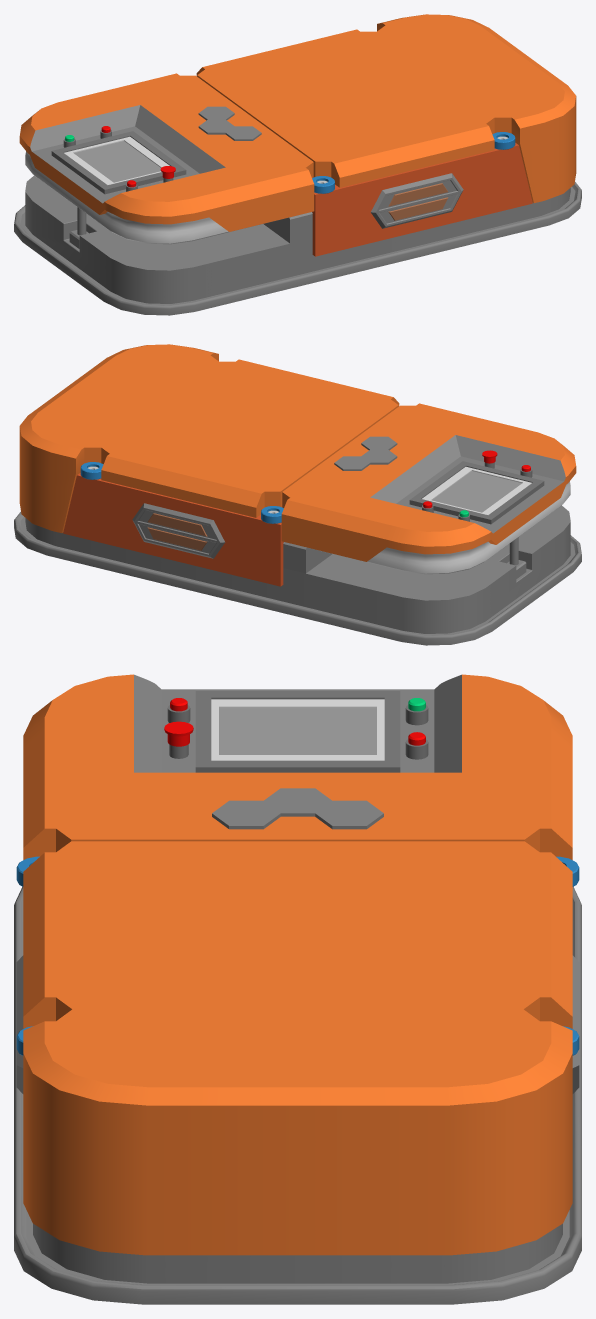
Rendered from agv.fbx.
3 renders of one model, top to bottom at view 1: azimuth 30°, elevation 25°; view 2: azimuth 150°, elevation 25°; view 3: azimuth 270°, elevation 25°, orthographic. The views are drawn at different scales.
Parts seen in each view (by area): view 1: MiHai006, MiHai004, MiHai001, MiHai005, MiHai000, MiHai009, MiHai003, MiHai018, MiHai021, MiHai002, MiHai019, MiHai020; view 2: MiHai006, MiHai004, MiHai001, MiHai005, MiHai000, MiHai009, MiHai003, MiHai018, MiHai021, MiHai002, MiHai019, MiHai020; view 3: MiHai006, MiHai004, MiHai000, MiHai009, MiHai001, MiHai021, MiHai018.
Boxes of the visible parts, <box> form: MiHai006: <box>196,14,576,203</box>; MiHai004: <box>19,73,314,231</box>; MiHai001: <box>25,175,570,303</box>; MiHai005: <box>312,143,532,256</box>; MiHai000: <box>14,182,581,315</box>; MiHai009: <box>51,131,186,194</box>; MiHai003: <box>25,151,290,244</box>; MiHai018: <box>370,173,463,228</box>; MiHai021: <box>198,106,261,140</box>; MiHai002: <box>264,212,312,243</box>; MiHai019: <box>388,183,447,206</box>; MiHai020: <box>388,197,448,220</box>; MiHai006: <box>19,344,399,533</box>; MiHai004: <box>281,403,576,561</box>; MiHai001: <box>25,505,570,633</box>; MiHai005: <box>63,473,283,586</box>; MiHai000: <box>14,512,581,645</box>; MiHai009: <box>409,461,544,524</box>; MiHai003: <box>305,481,570,574</box>; MiHai018: <box>132,503,225,558</box>; MiHai021: <box>334,436,397,470</box>; MiHai002: <box>283,542,331,573</box>; MiHai019: <box>148,513,207,536</box>; MiHai020: <box>147,527,207,550</box>; MiHai006: <box>23,841,572,1255</box>; MiHai004: <box>23,674,572,859</box>; MiHai000: <box>14,887,581,1304</box>; MiHai009: <box>195,691,400,772</box>; MiHai001: <box>33,1223,562,1283</box>; MiHai021: <box>212,788,383,829</box>; MiHai018: <box>16,955,579,1093</box>.
Bounding box in the file's own units: 110 × 24.2 × 60.
